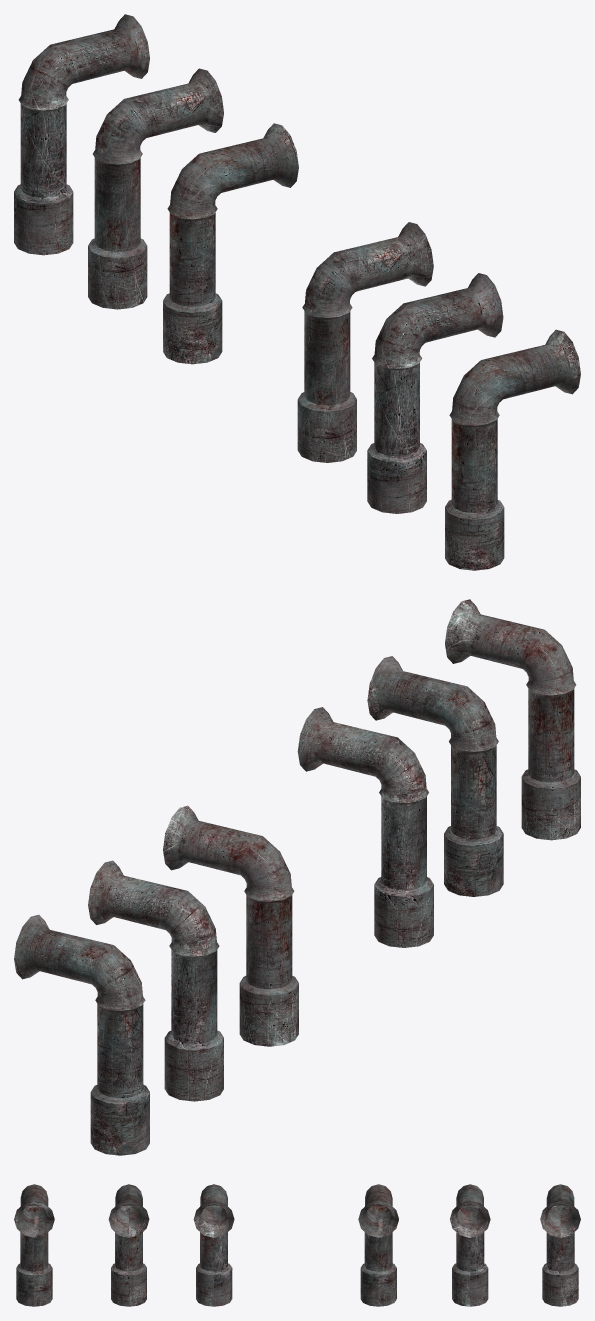
The model's file is pipes-b.FBX.
The picture shows the model from 3 angles, top to bottom: view 1: azimuth 30°, elevation 25°; view 2: azimuth 150°, elevation 25°; view 3: azimuth 270°, elevation 25°; orthographic projection. The views are drawn at different scales.
Parts seen in each view (by area): view 1: PipesB; view 2: PipesB; view 3: PipesB.
Part boxes in pixels (bbox=[...]): PipesB: bbox=[14, 14, 580, 570]; PipesB: bbox=[14, 599, 580, 1155]; PipesB: bbox=[14, 1184, 580, 1306].
Bounding box in the file's own units: 6.6 × 11.18 × 46.
